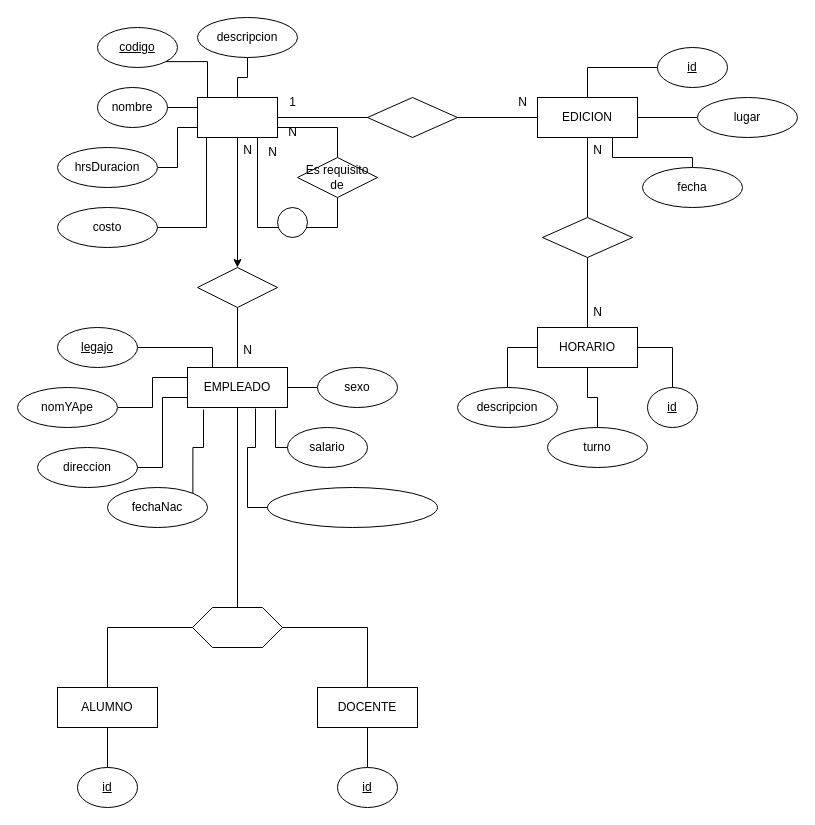
This 815x825 diagram has some shape labels left out. The shapes that lost their labels are listed below. From the top down, each one's box as (x1, y1, x2, y2) in pixels, then its label:
(196, 96, 278, 138): CURSO
(366, 96, 458, 138): Posee
(542, 216, 632, 258): Se dicta en
(196, 266, 278, 308): Asistido por
(266, 486, 438, 528): capacitadoParaDocente
(192, 606, 282, 648): Tipo participación
